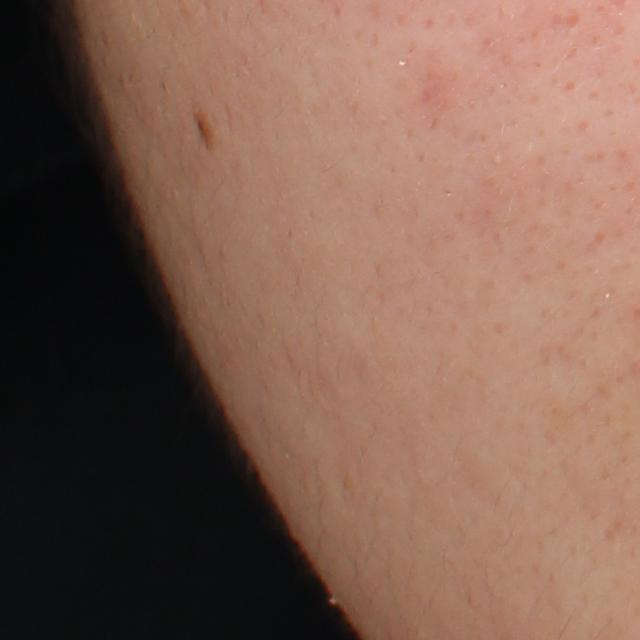atrophic_scar: (550, 15, 584, 35)
nevus: (193, 106, 217, 152)
